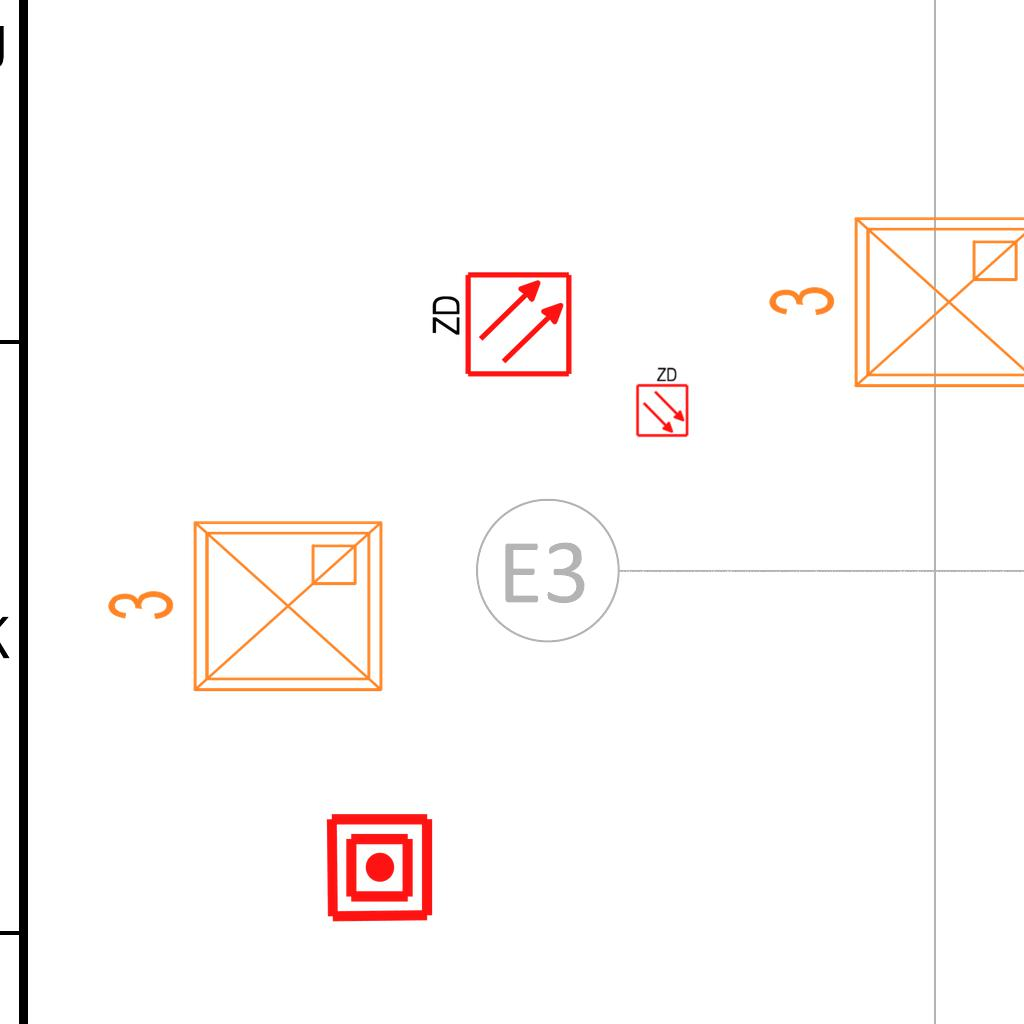Einbaudownlights_LED_Konferenzraeume: (97, 506, 397, 714), (758, 202, 1024, 410)
NAM-Nichtautomatischer_Melder: (323, 811, 436, 924)
ZD_Melder_in_Zwischendecke_mit_Revisionsoeffnung_mind_40_x_40_cm: (425, 269, 574, 383), (633, 364, 690, 438)
